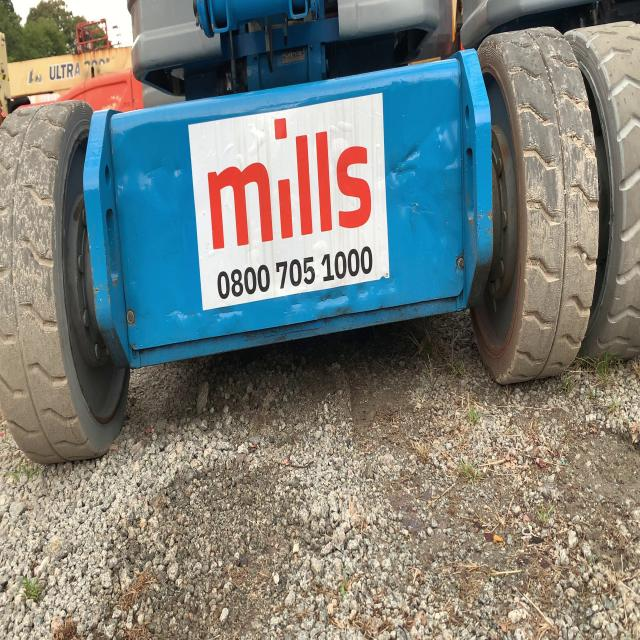Adesivos: (187, 88, 391, 314)
